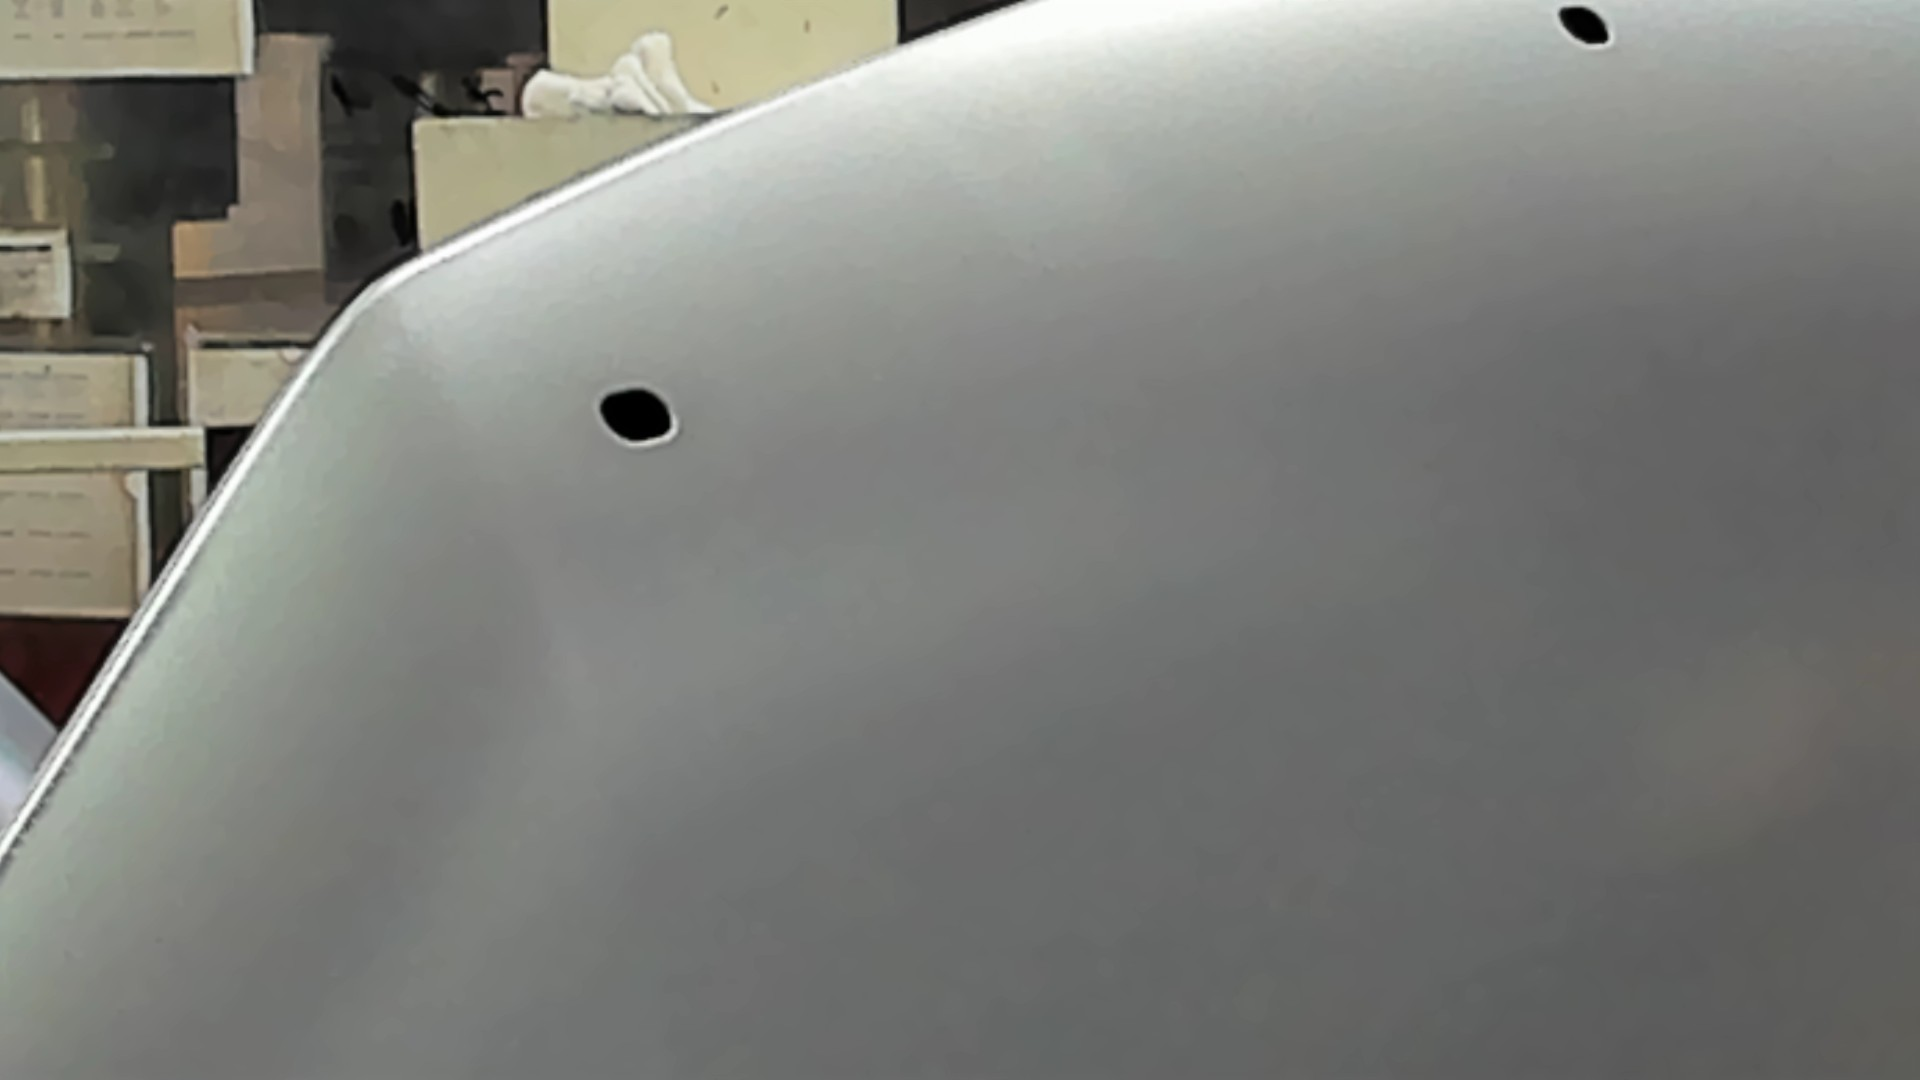amorfo: (595, 385, 686, 448), (1551, 1, 1615, 51)
